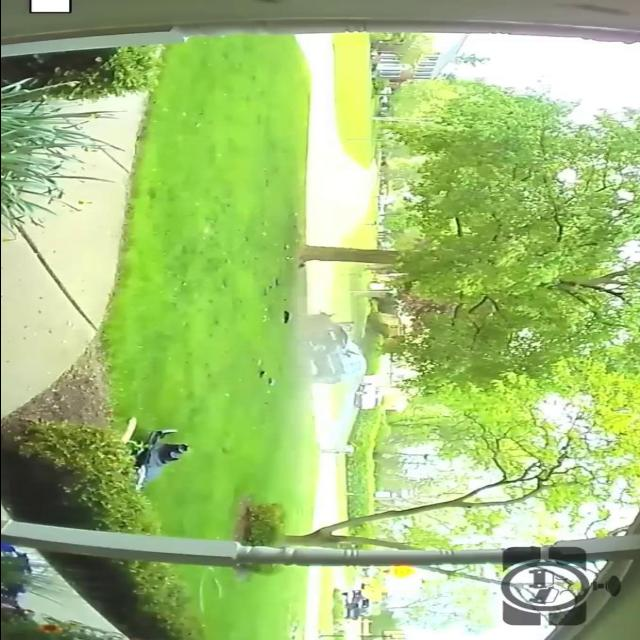accident: (295, 303, 371, 389)
